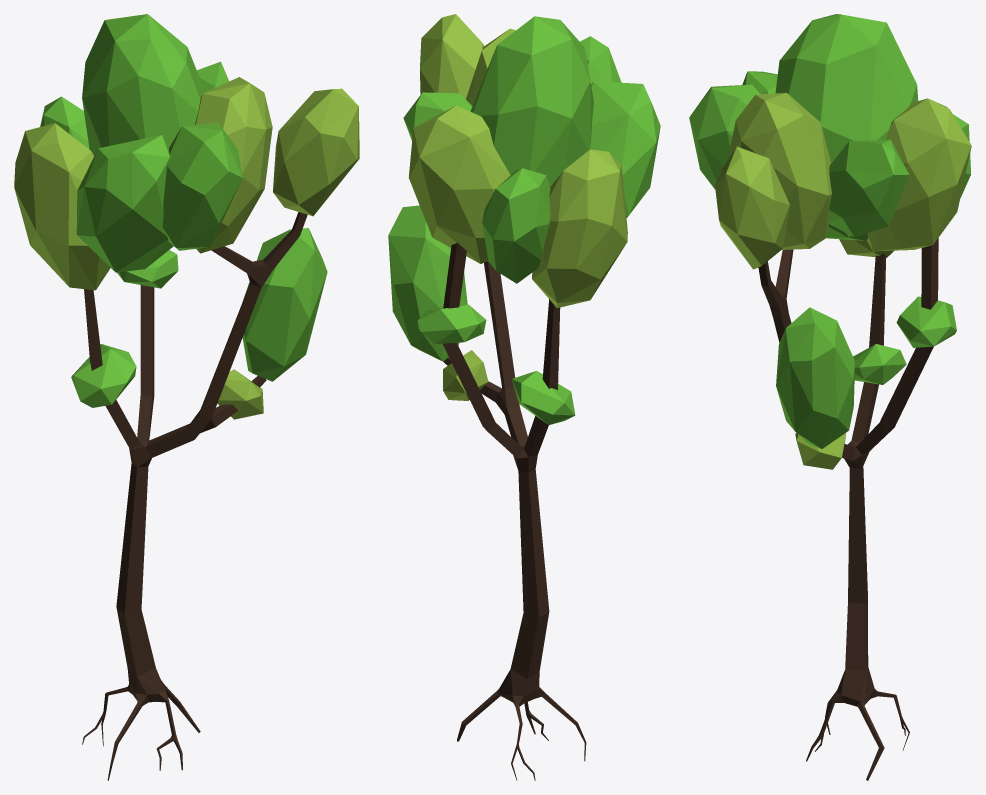
File: Tree_03.fbx
3 renders of one model, left to right at view 1: azimuth 30°, elevation 25°; view 2: azimuth 150°, elevation 25°; view 3: azimuth 270°, elevation 25°, orthographic.
Visible parts, largest first — view 1: Tree_03; view 2: Tree_03; view 3: Tree_03.
Boxes of the visible parts, x1=… form: Tree_03: x1=14, y1=14, x2=359, y2=780; Tree_03: x1=388, y1=14, x2=660, y2=780; Tree_03: x1=689, y1=14, x2=971, y2=780.
Size of the model in its own units: 4.17 by 11.19 by 3.86.
